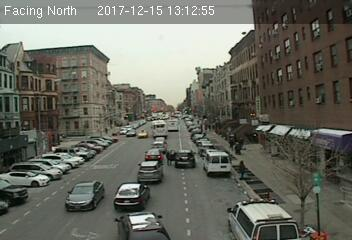bus: (150, 121, 169, 139)
car: (114, 214, 173, 240), (65, 179, 106, 211), (113, 181, 152, 211), (202, 148, 232, 177), (136, 161, 165, 184), (171, 149, 197, 168), (144, 149, 163, 162), (137, 129, 148, 139)
pedestrian: (238, 157, 248, 181)
police: (227, 198, 299, 240)
truck: (167, 119, 178, 132)
